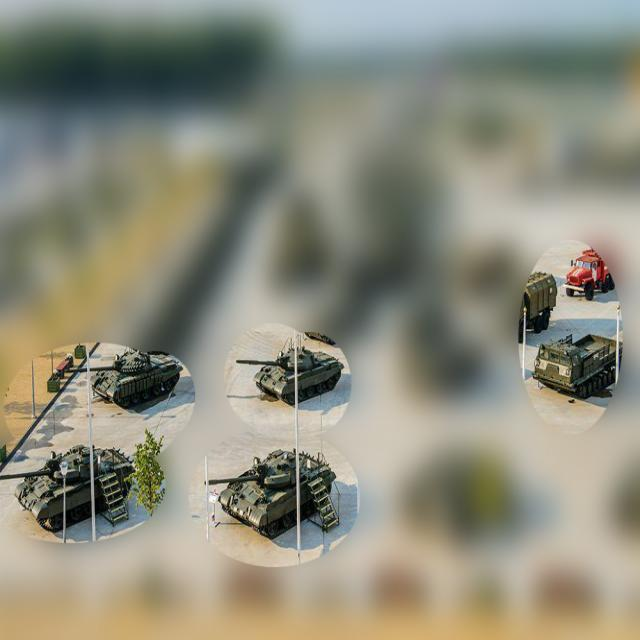tank: (202, 448, 339, 540), (0, 445, 134, 537), (62, 347, 184, 418), (233, 341, 347, 408)
